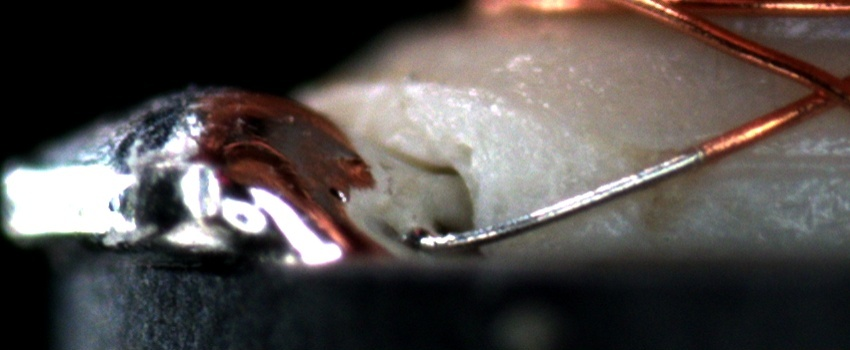CL: (779, 60, 847, 118)
DL: (646, 132, 850, 185)
TS: (422, 145, 704, 250)
